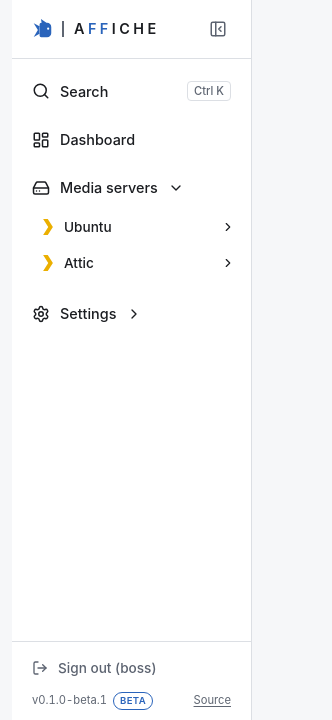
Test: Sidebar for keyboard and screen-reader users › says whether each collapsible section is open
Click the button "Ubuntu".
click(132, 227)  # box [12,211,251,243]
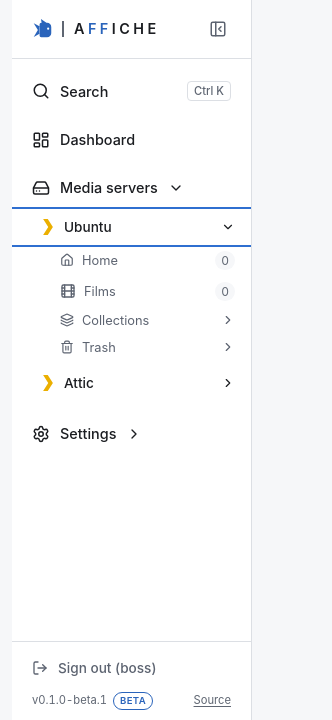
Result: the button "Ubuntu" is expanded at [12,211,251,243]
